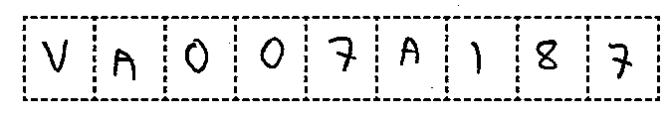0: (251, 33, 292, 75), (179, 34, 216, 80)
1: (460, 35, 499, 77)
7: (599, 34, 639, 84), (323, 31, 363, 76)
8: (530, 32, 567, 78)
A: (106, 45, 147, 87), (390, 29, 428, 72)
V: (35, 34, 73, 78)
